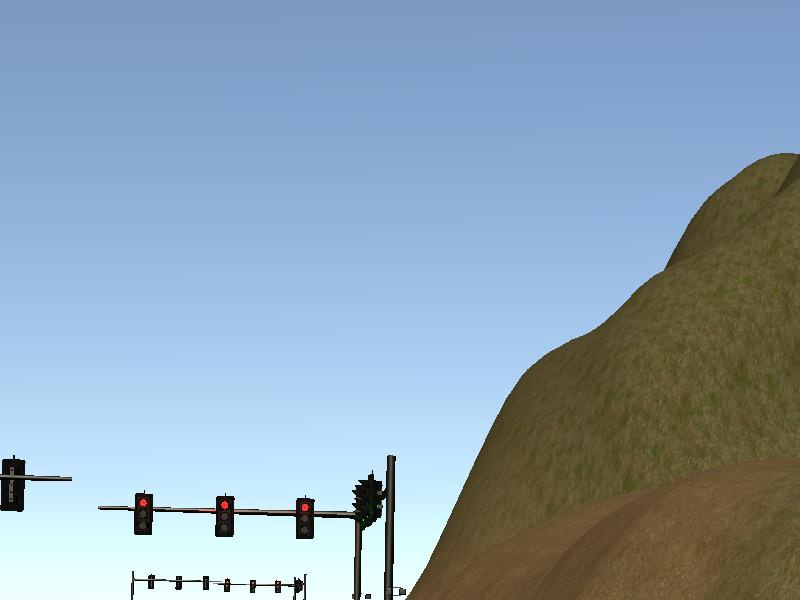Red: (133, 490, 154, 536), (214, 493, 235, 539), (294, 496, 315, 542)
